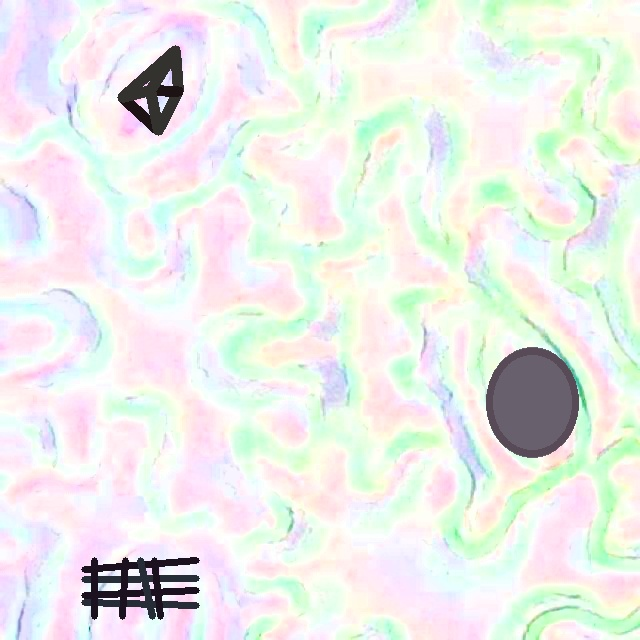close: (485, 346, 578, 457), (82, 557, 198, 619)
open: (118, 46, 183, 135)
